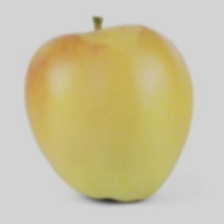apple: (43, 37, 212, 224)
